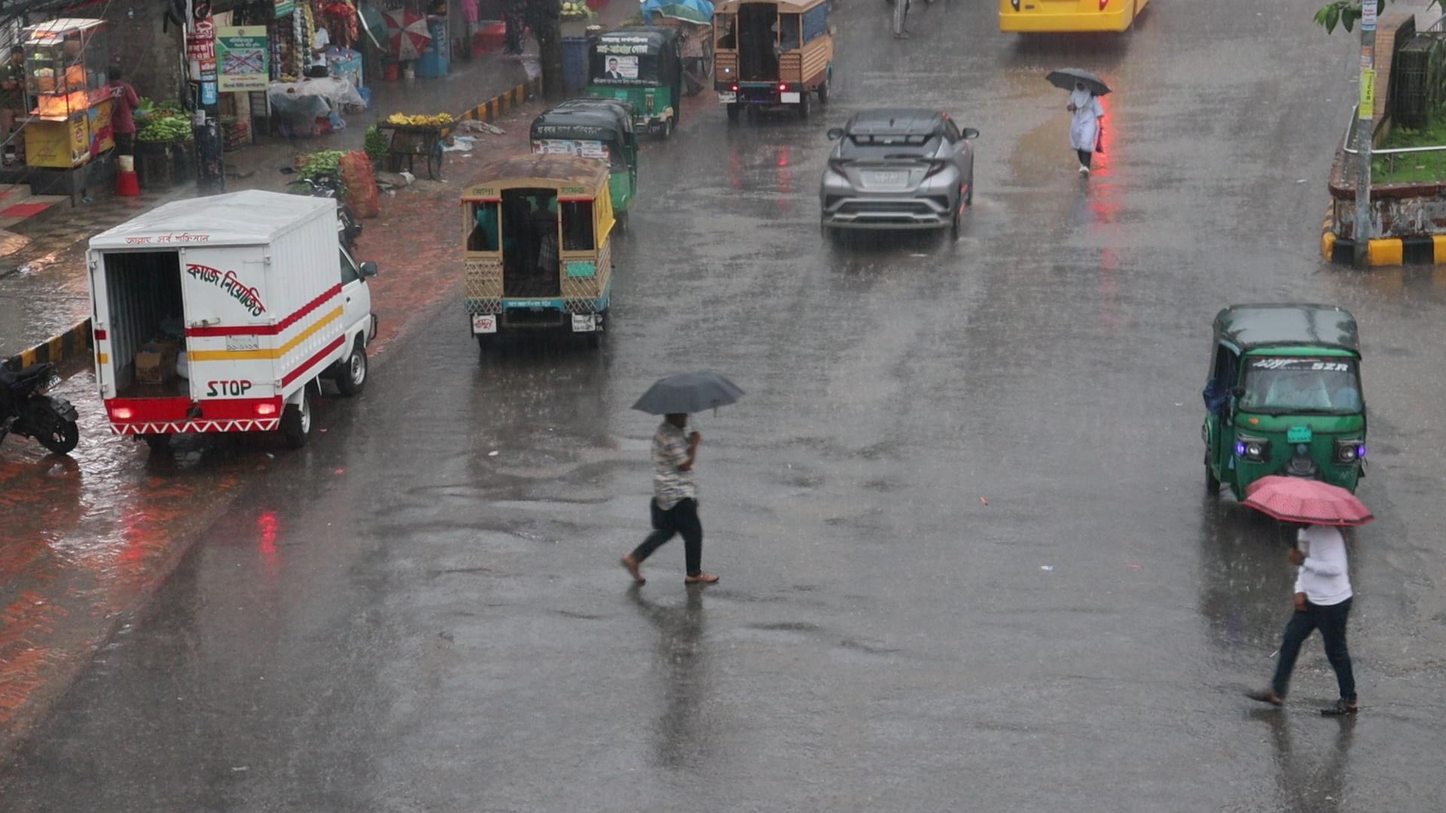Car: (817, 104, 981, 251)
Truck: (456, 148, 623, 355)
